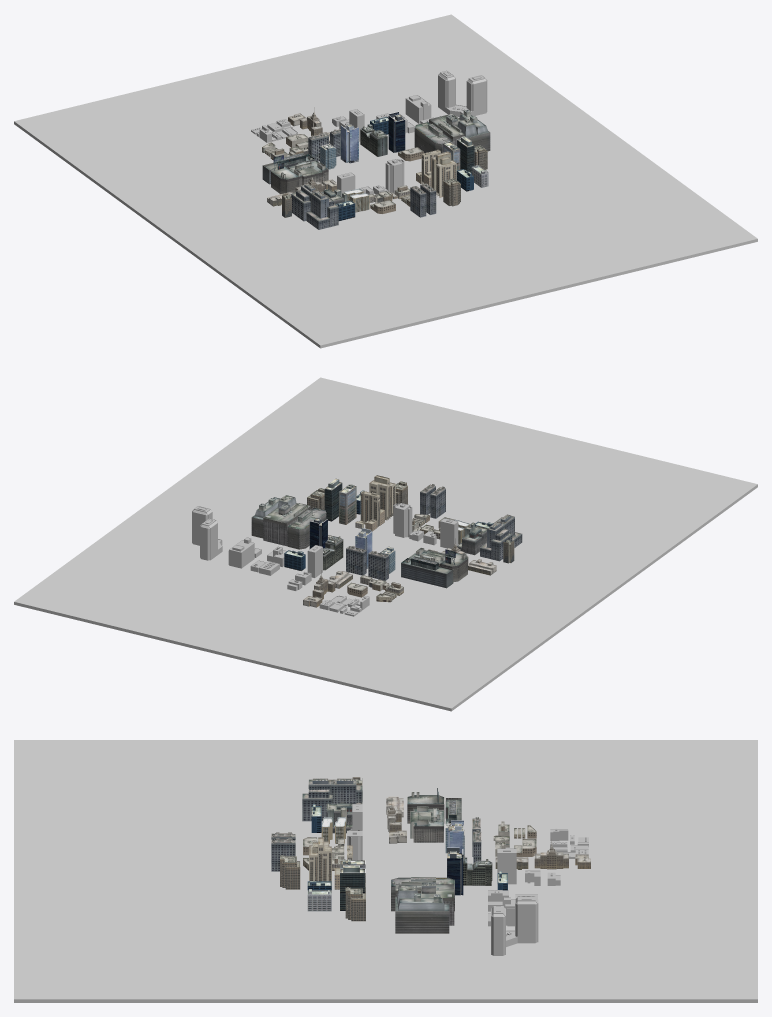
File: peilou.FBX
3 renders of one model, top to bottom at view 1: azimuth 30°, elevation 25°; view 2: azimuth 150°, elevation 25°; view 3: azimuth 270°, elevation 25°, orthographic. The views are drawn at different scales.
Visible parts, largest first — view 1: Box01, Line22, Shape03, Shape01, Box03, PJL-HWX-474, PJL-HWX-505, PJL-HWX-507, Line29, Line13, Box02, Line01dfhdfhdh (+1 smaller); view 2: Box01, Shape03, Line22, Shape01, PJL-HWX-474, Box03, PJL-HWX-507, Rectangle36, PJL-HWX-506, Rectangle49, Line01dfhdfhdh, Rectangle43 (+4 smaller); view 3: Box01, Shape03, Line22, Shape01, Box03, PJL-HWX-474, PJL-HWX-506, Rectangle49, PJL-HWX-507, PJL-HWX-480, Line01dfhdfhdh, Line13 (+9 smaller).
Boxes of the visible parts, box(x1,y1,x2,y2) form: Box01: box(14, 14, 757, 348); Line22: box(376, 70, 487, 133); Shape03: box(414, 109, 490, 153); Shape01: box(262, 153, 328, 194); Box03: box(291, 183, 338, 229); PJL-HWX-474: box(416, 149, 456, 197); PJL-HWX-505: box(369, 185, 410, 213); PJL-HWX-507: box(262, 134, 308, 160); Line29: box(340, 124, 358, 163); Line13: box(360, 124, 387, 156); Box02: box(388, 111, 405, 152); Line01dfhdfhdh: box(251, 119, 298, 142); Box01: box(14, 377, 757, 711); Shape03: box(251, 495, 326, 549); Line22: box(192, 506, 286, 575); Shape01: box(401, 547, 467, 588); PJL-HWX-474: box(355, 475, 395, 531); Box03: box(480, 514, 522, 561); PJL-HWX-507: box(347, 575, 403, 602); Rectangle36: box(409, 518, 458, 548); PJL-HWX-506: box(303, 570, 352, 607); Rectangle49: box(287, 545, 322, 590); Line01dfhdfhdh: box(319, 595, 369, 616); Rectangle43: box(339, 484, 356, 524); Box01: box(14, 740, 757, 1002); Shape03: box(391, 877, 454, 933); Line22: box(488, 890, 538, 955); Shape01: box(407, 788, 461, 842); Box03: box(302, 778, 362, 821); PJL-HWX-474: box(309, 837, 365, 892); PJL-HWX-506: box(495, 839, 590, 869); Rectangle49: box(497, 848, 560, 885); PJL-HWX-507: box(493, 821, 536, 856); PJL-HWX-480: box(386, 796, 406, 843); Line01dfhdfhdh: box(550, 828, 588, 858); Line13: box(463, 854, 492, 885).
Size of the model in its own units: 102658 by 9289 by 124546.
